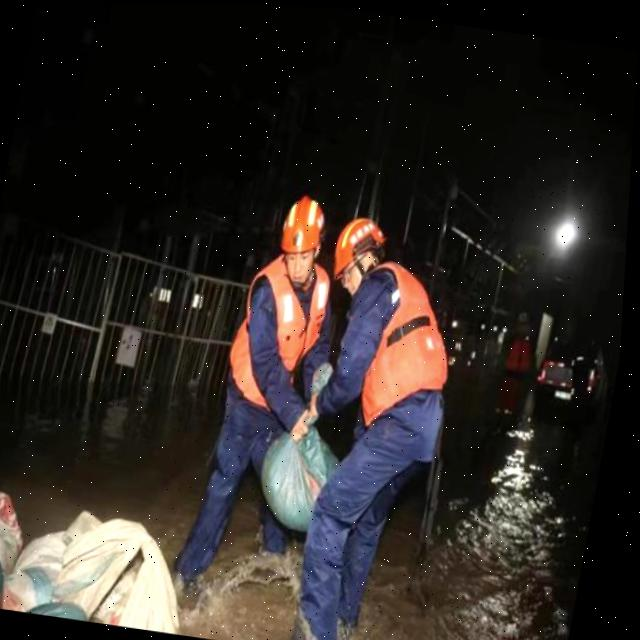rescuer: (240, 200, 484, 640), (160, 172, 365, 617), (481, 306, 551, 442)
